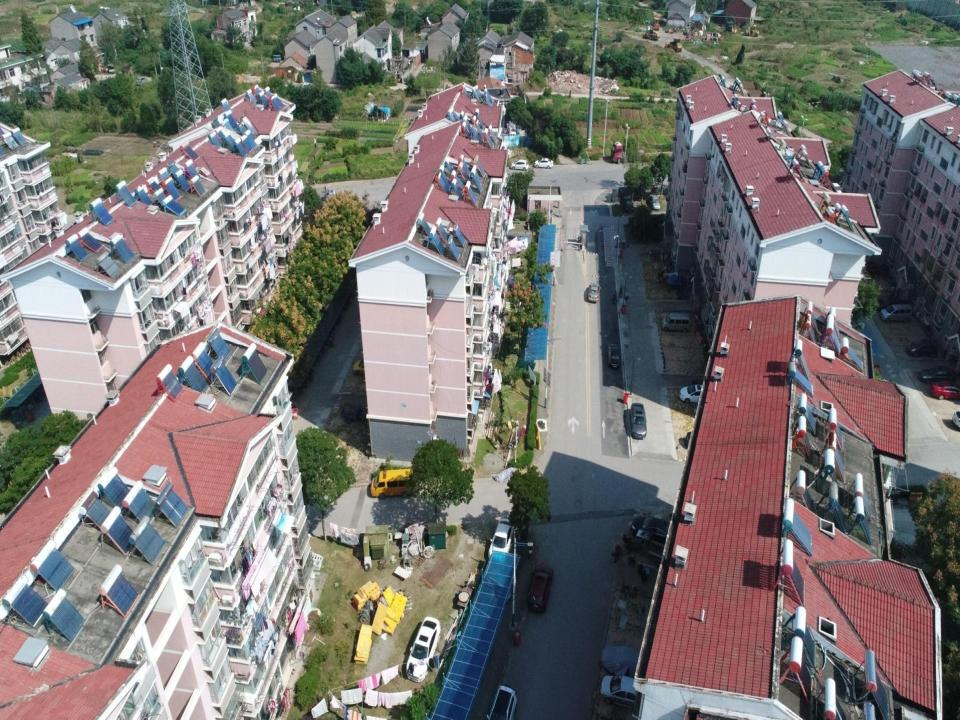car: (406, 614, 440, 682), (526, 563, 554, 615), (602, 642, 640, 678), (600, 672, 636, 708), (488, 516, 514, 564), (632, 515, 670, 543), (487, 685, 516, 719), (919, 365, 958, 383), (629, 402, 647, 440), (906, 339, 939, 357), (930, 381, 960, 400), (678, 385, 703, 403), (607, 343, 621, 369), (587, 282, 599, 302), (649, 194, 660, 211), (353, 359, 364, 375), (624, 195, 634, 212), (685, 429, 690, 449)
truck: (610, 142, 646, 165)
van: (370, 468, 418, 499), (880, 302, 913, 324), (662, 310, 691, 333)
